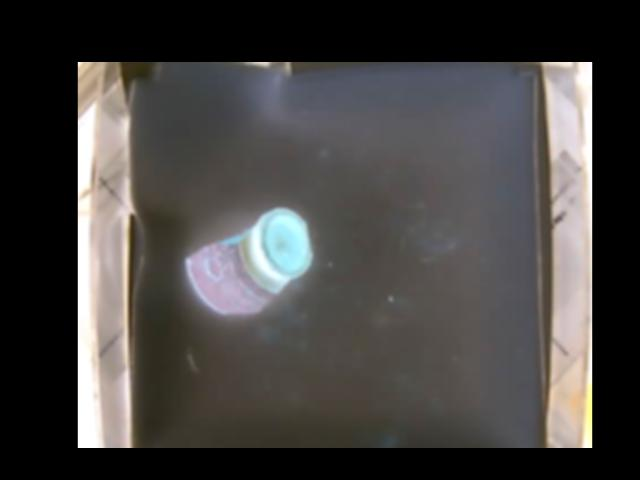China: (185, 208, 309, 312)
